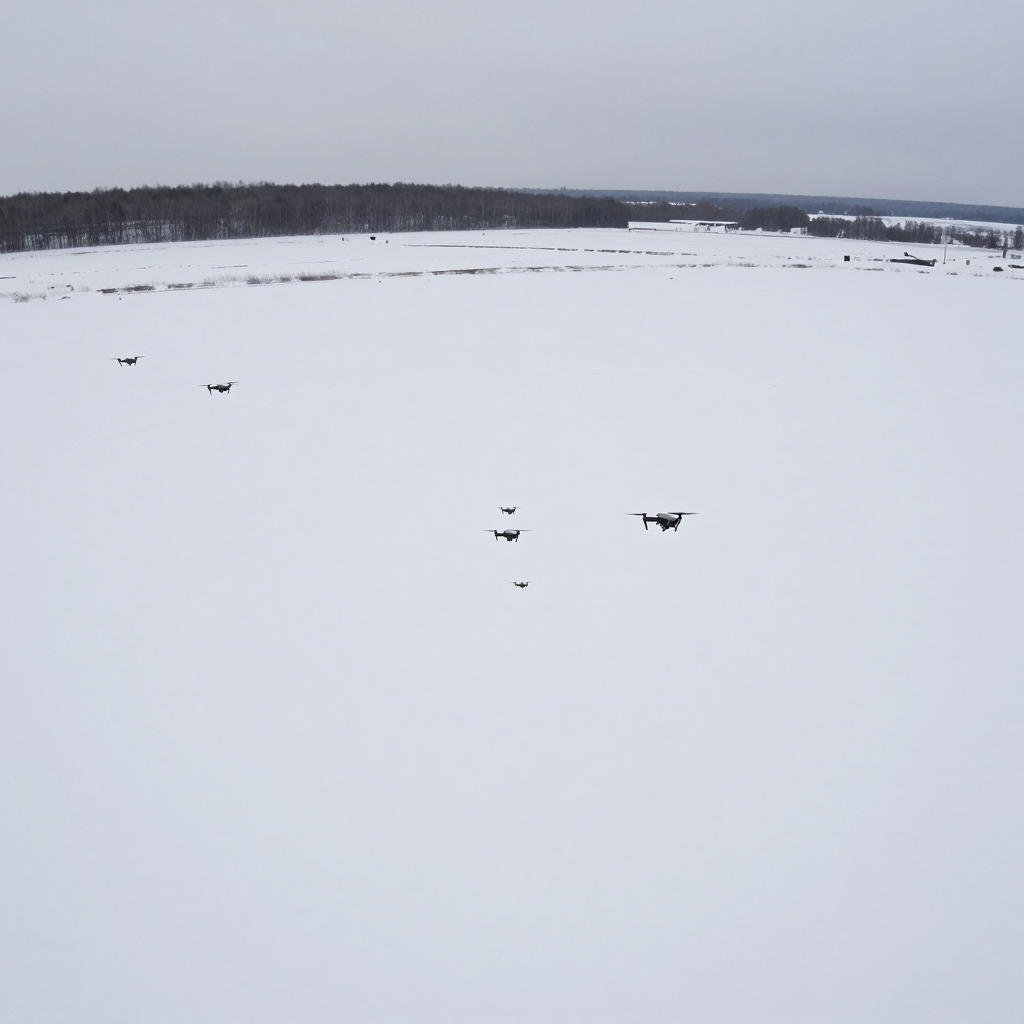drone: (625, 512, 701, 532), (483, 529, 531, 542), (197, 381, 241, 395), (109, 356, 146, 367), (496, 501, 520, 517), (513, 581, 533, 589)
